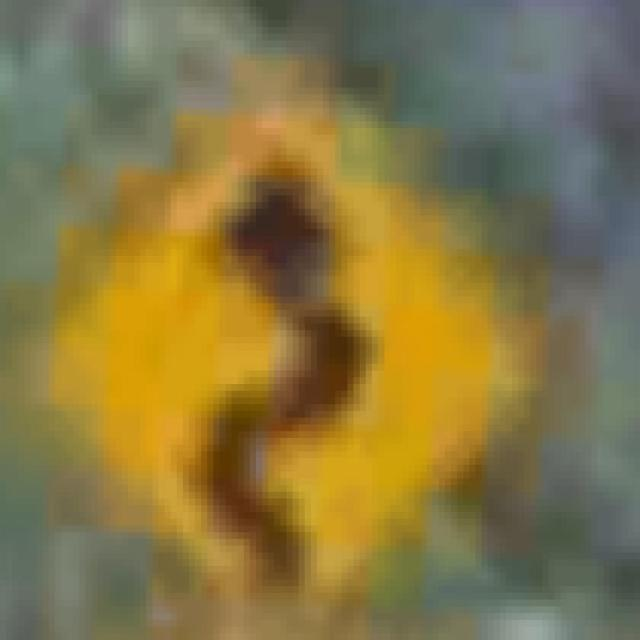Banyak Tikungan Pertama Kiri: (18, 74, 537, 600)
